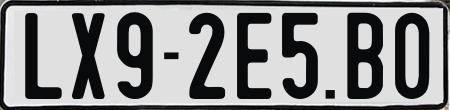0: (393, 11, 431, 102)
2: (187, 13, 224, 105)
5: (279, 13, 315, 101)
9: (117, 11, 155, 99)
B: (344, 13, 385, 103)
E: (234, 10, 269, 101)
L: (24, 11, 66, 97)
X: (72, 11, 109, 98)
